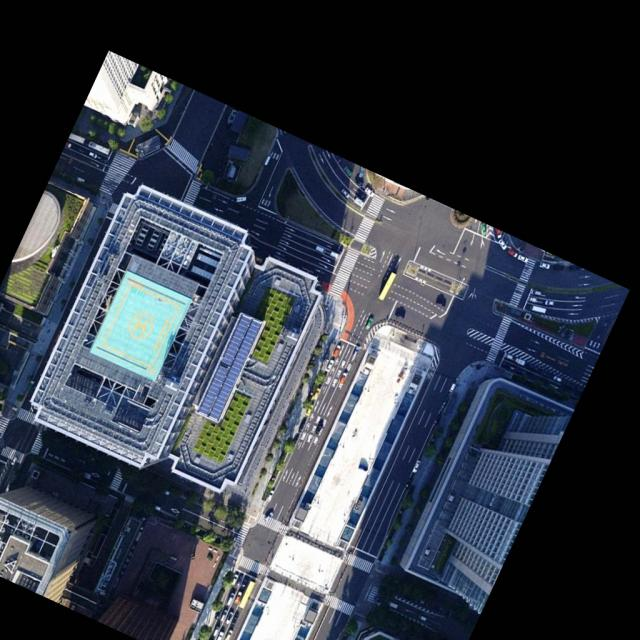helipad: (127, 309, 154, 342)
